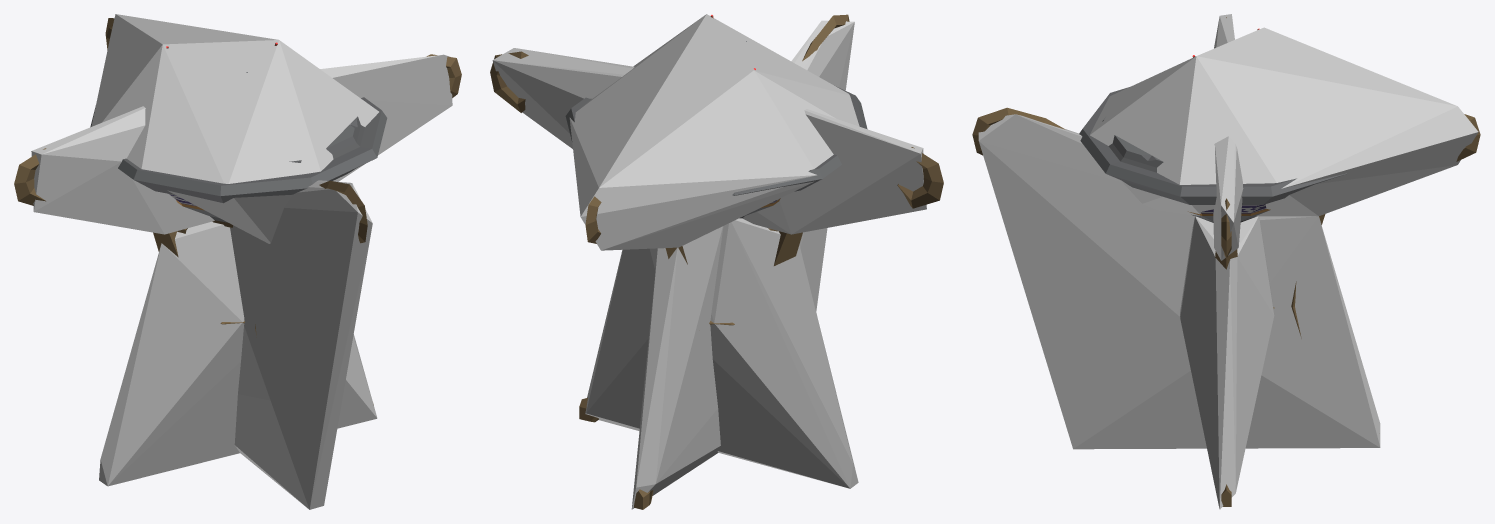
The model's file is SM_Prop_OfferingShrine_01.fbx.
The picture shows the model from 3 angles, left to right: view 1: azimuth 30°, elevation 25°; view 2: azimuth 150°, elevation 25°; view 3: azimuth 270°, elevation 25°; orthographic projection. The views are drawn at different scales.
Visible parts, largest first — view 1: SM_Prop_OfferingShrine_01_ConvexHulls, SM_Prop_OfferingShrine_01; view 2: SM_Prop_OfferingShrine_01_ConvexHulls, SM_Prop_OfferingShrine_01; view 3: SM_Prop_OfferingShrine_01_ConvexHulls, SM_Prop_OfferingShrine_01.
Boxes of the visible parts, bbox=[...] form: SM_Prop_OfferingShrine_01_ConvexHulls: bbox=[31, 14, 452, 509]; SM_Prop_OfferingShrine_01: bbox=[14, 18, 461, 404]; SM_Prop_OfferingShrine_01_ConvexHulls: bbox=[492, 14, 926, 509]; SM_Prop_OfferingShrine_01: bbox=[490, 14, 943, 509]; SM_Prop_OfferingShrine_01_ConvexHulls: bbox=[978, 14, 1478, 509]; SM_Prop_OfferingShrine_01: bbox=[972, 17, 1480, 506].
Bounding box in the file's own units: 160 × 163 × 142.
2 materials, 1 textured.
